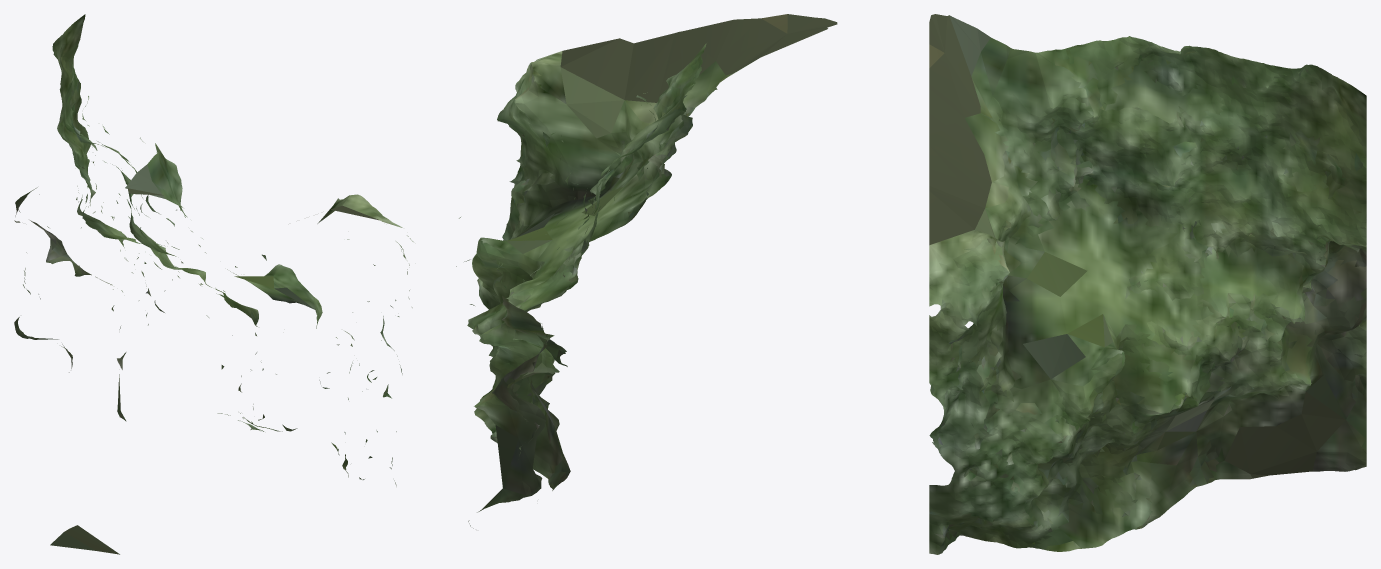
3 views of the same model, side by side, from view 1: azimuth 30°, elevation 25°; view 2: azimuth 150°, elevation 25°; view 3: azimuth 270°, elevation 25° (orthographic). The views are drawn at different scales.
Size of the model in its own units: 0.983 by 0.983 by 0.983.
1 material, 1 textured.
